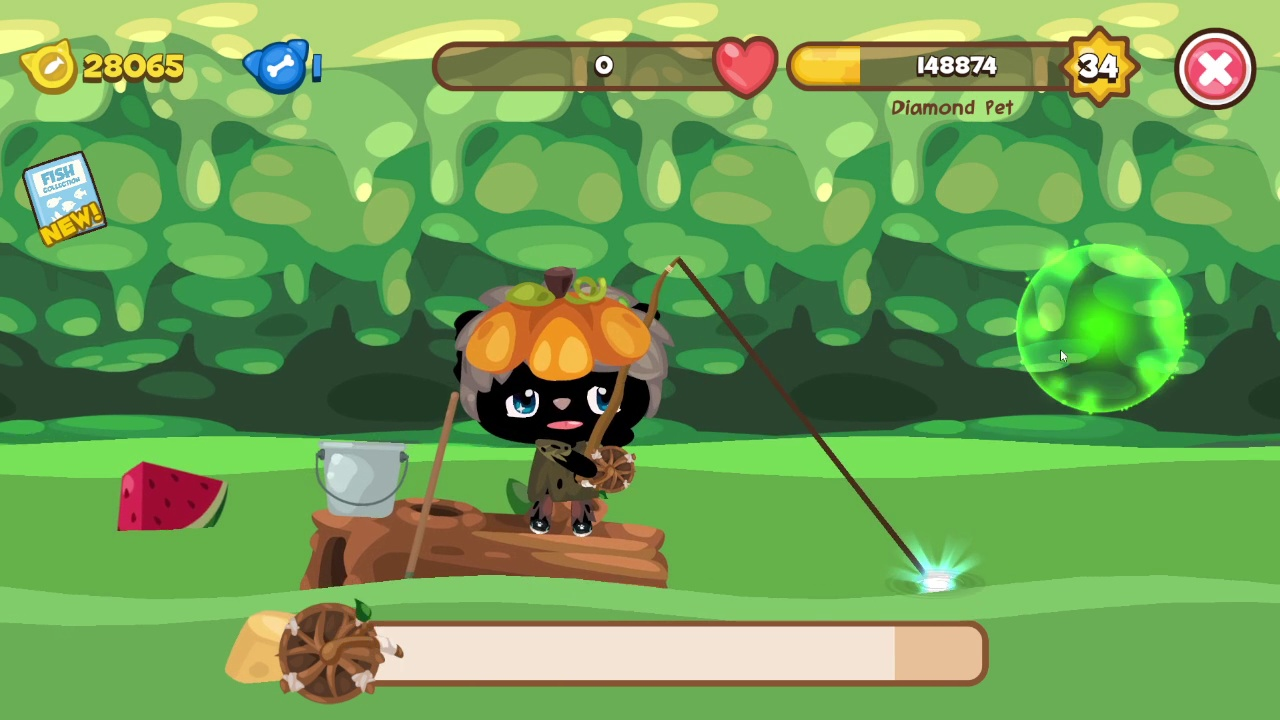point: (1012, 242, 1188, 417)
